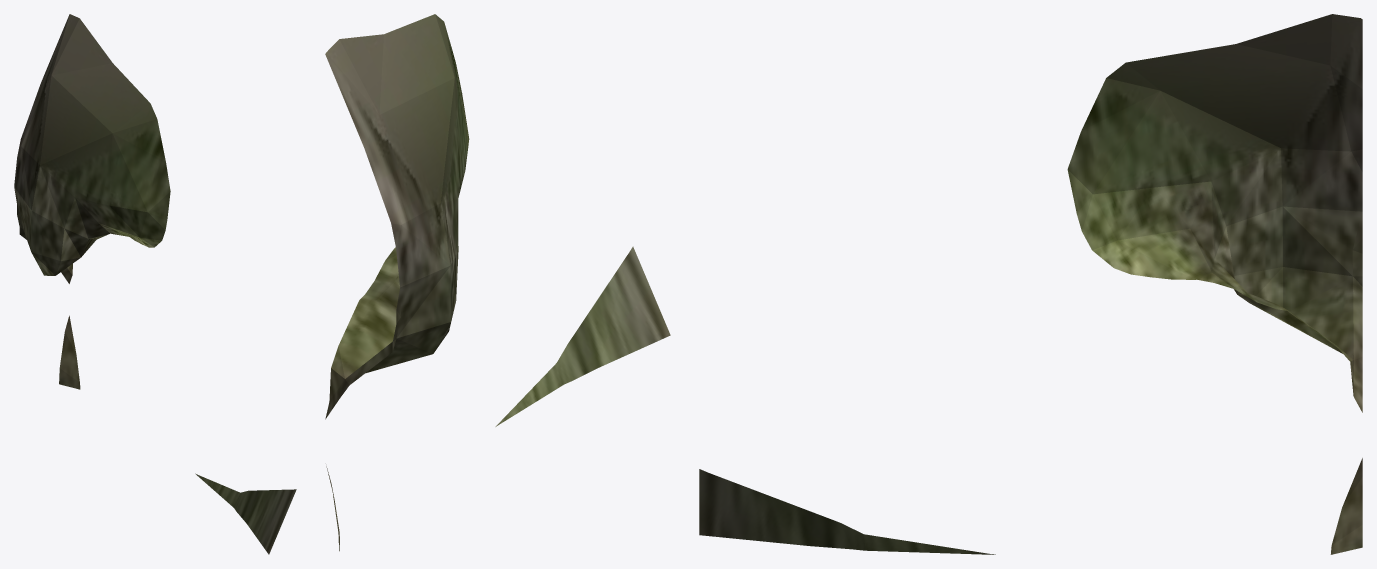
3 renders of one model, left to right at view 1: azimuth 30°, elevation 25°; view 2: azimuth 150°, elevation 25°; view 3: azimuth 270°, elevation 25°, orthographic. The views are drawn at different scales.
Size of the model in its own units: 0.4905 by 2.65 by 2.95.
1 material, 1 textured.
